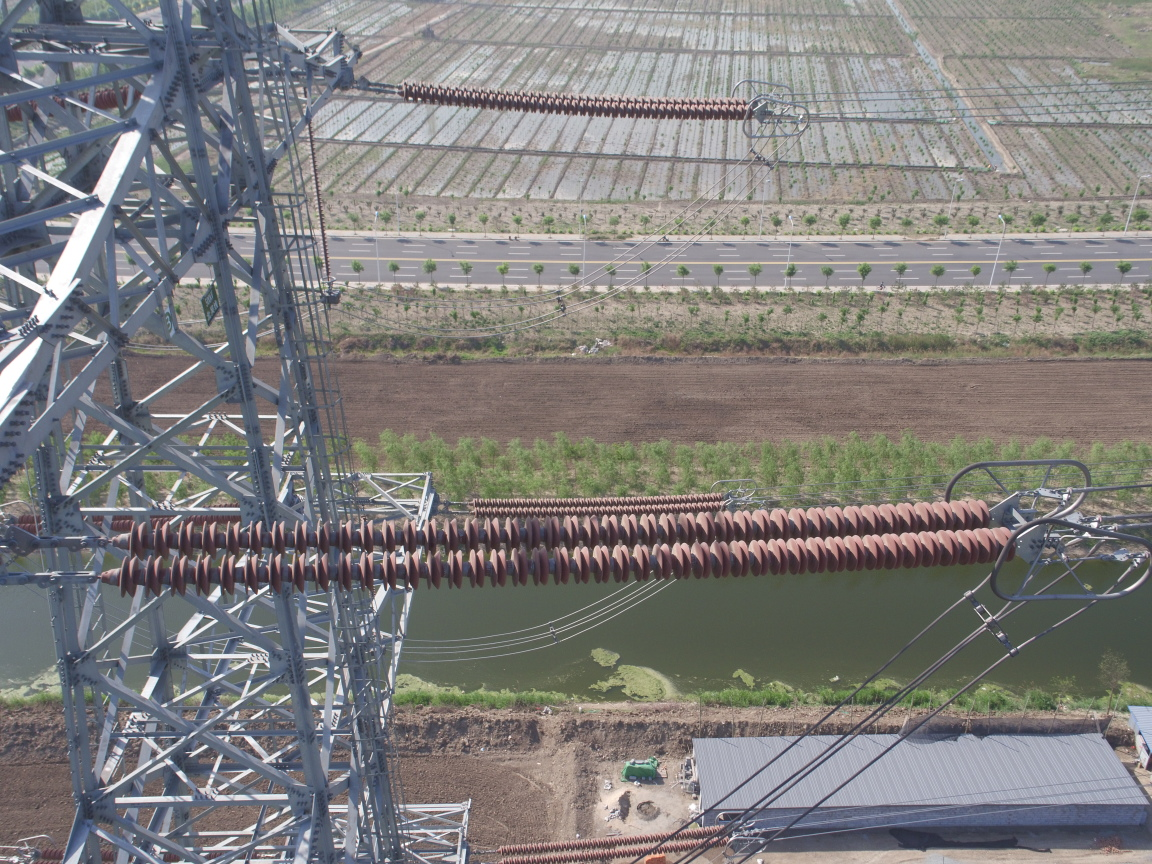insulator: (37, 483, 1035, 598), (381, 73, 764, 129), (456, 491, 731, 516)
